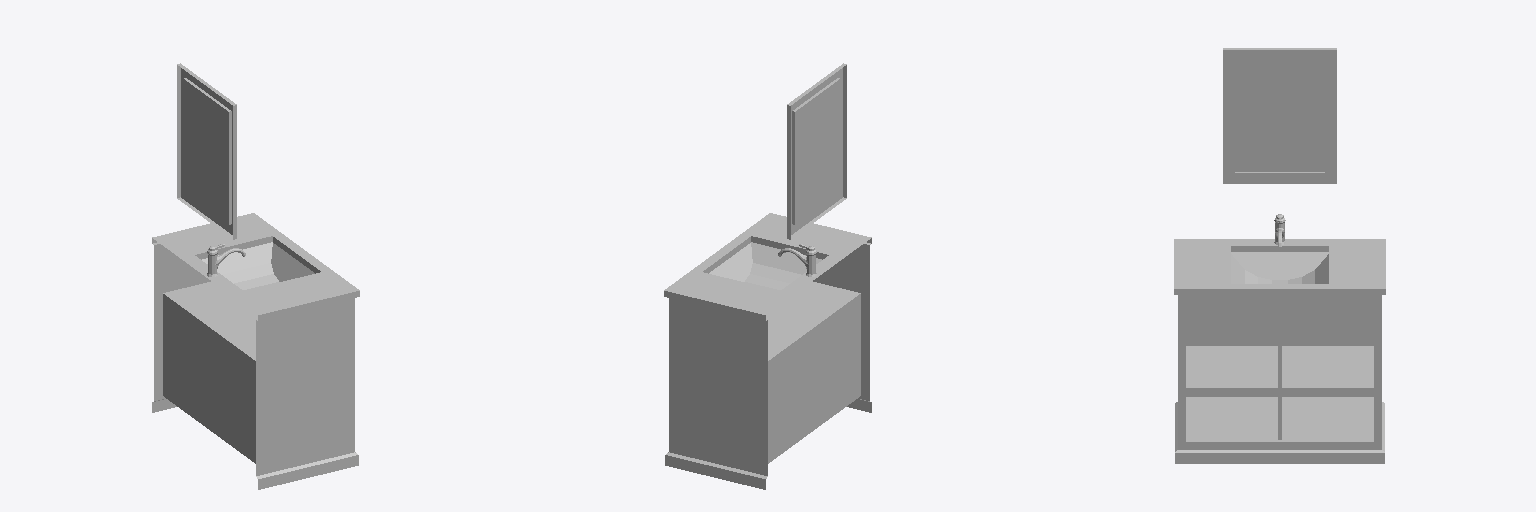
Rendered from sink.obj.
3 views of the same model, side by side, from view 1: azimuth 30°, elevation 25°; view 2: azimuth 150°, elevation 25°; view 3: azimuth 270°, elevation 25° (orthographic).
Parts seen in each view (by area): view 1: SM_BathroomSink; view 2: SM_BathroomSink; view 3: SM_BathroomSink.
Boxes of the visible parts, x1,y1,x2,y2 form: SM_BathroomSink: [152, 63, 359, 489]; SM_BathroomSink: [664, 63, 871, 489]; SM_BathroomSink: [1174, 48, 1385, 463].
Bounding box in the file's own units: 0.5177 × 1.78 × 0.9354.